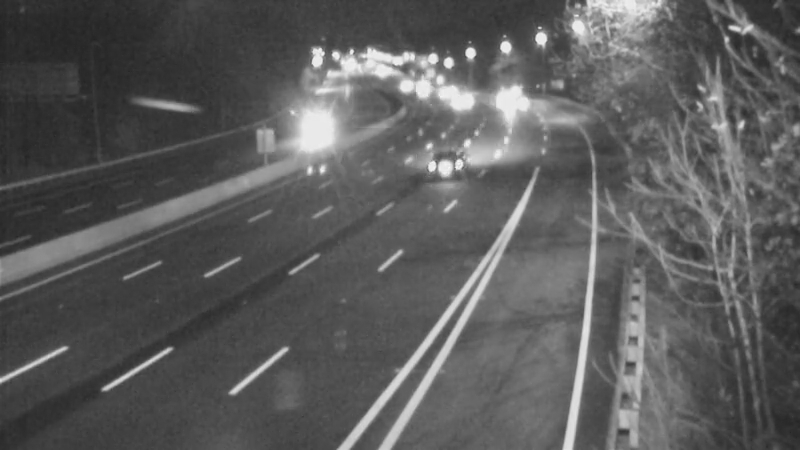vehicle: (407, 124, 487, 204), (399, 65, 449, 115), (372, 58, 422, 108), (418, 68, 468, 118), (485, 70, 535, 120), (435, 76, 485, 126), (295, 110, 345, 160)
